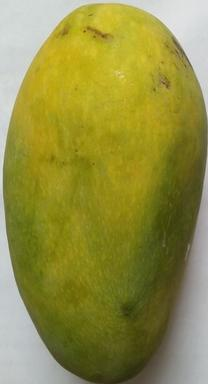PartiallyRipe: (1, 1, 208, 384)
